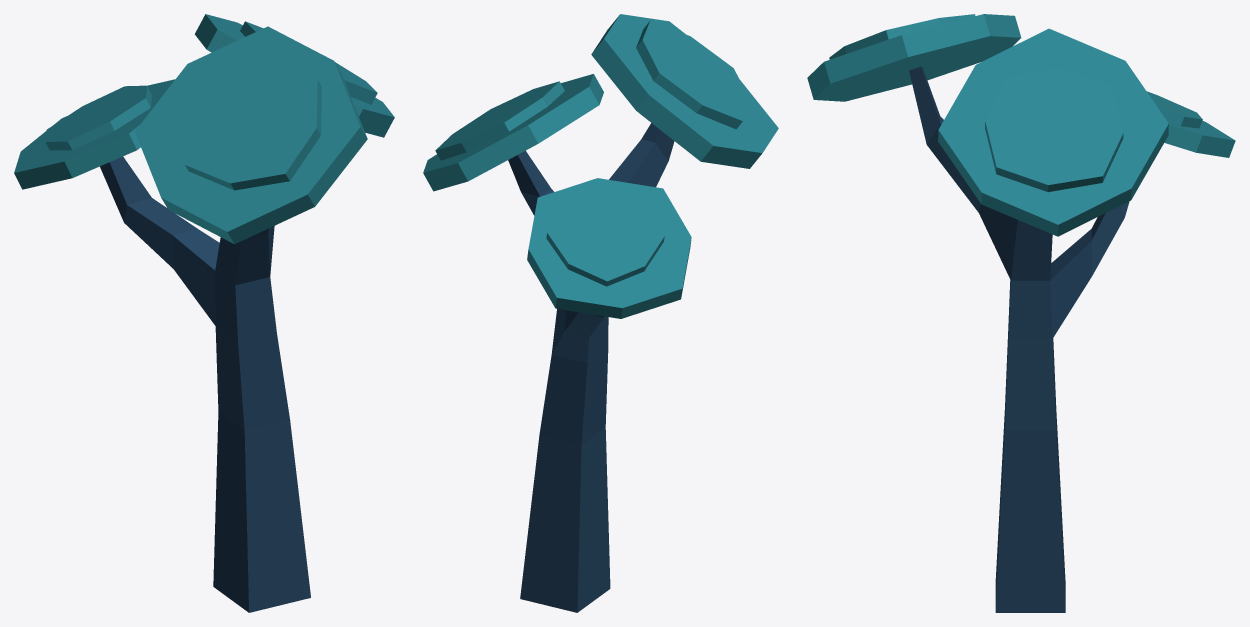
The model's file is Arbre2.fbx.
3 views of the same model, side by side, from view 1: azimuth 30°, elevation 25°; view 2: azimuth 150°, elevation 25°; view 3: azimuth 270°, elevation 25° (orthographic). The views are drawn at different scales.
Visible parts, largest first — view 1: tronc; view 2: tronc; view 3: tronc.
Part boxes in pixels (bbox=[...]): tronc: bbox=[14, 14, 394, 612]; tronc: bbox=[423, 14, 778, 612]; tronc: bbox=[807, 14, 1235, 612].
Bounding box in the file's own units: 117 × 204 × 138.
